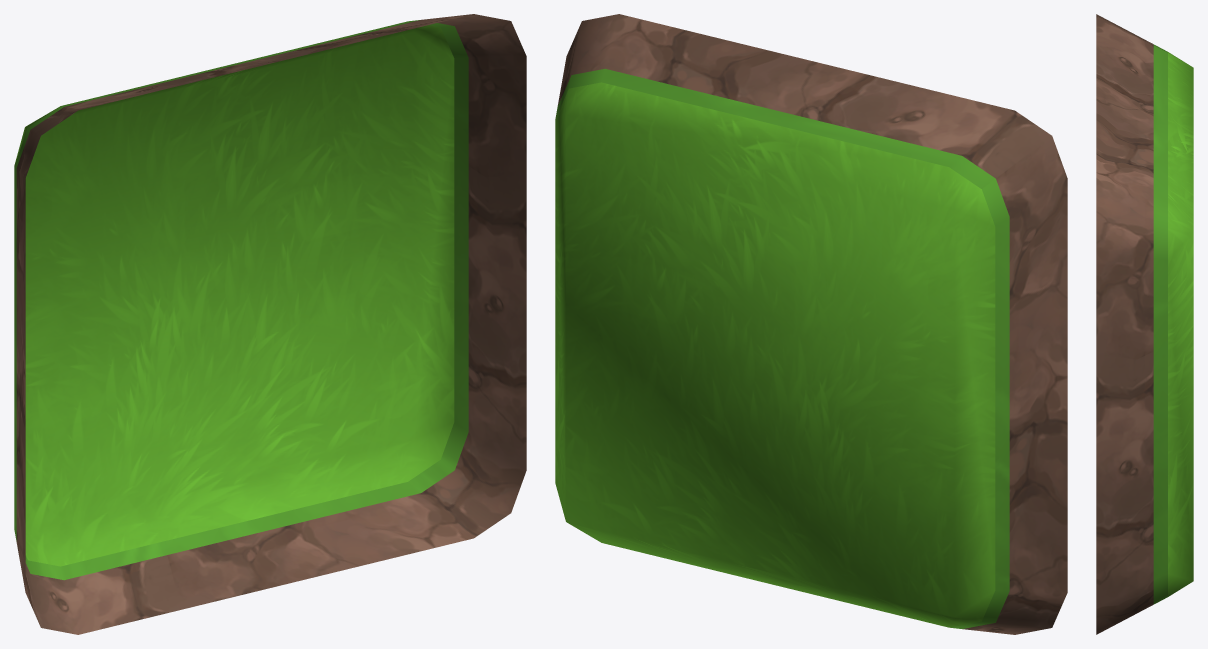
File: cell_default.glb
The picture shows the model from 3 angles, left to right: view 1: azimuth 30°, elevation 25°; view 2: azimuth 150°, elevation 25°; view 3: azimuth 270°, elevation 25°; orthographic projection. The views are drawn at different scales.
Visible parts, largest first — view 1: cell_default.019; view 2: cell_default.019; view 3: cell_default.019.
Boxes of the visible parts, bbox=[...] form: cell_default.019: bbox=[14, 14, 526, 634]; cell_default.019: bbox=[555, 14, 1067, 634]; cell_default.019: bbox=[1096, 14, 1193, 634].
Size of what is drawn, in the model's own units: 1 by 1 by 0.1959.
Materials: 2 (2 with a texture image).
